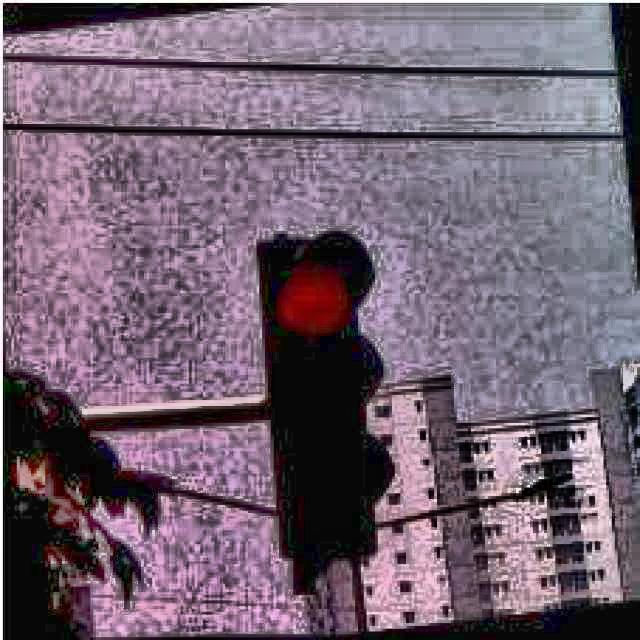red: (259, 229, 388, 564)
